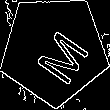M_NW: (22, 17, 87, 83)
